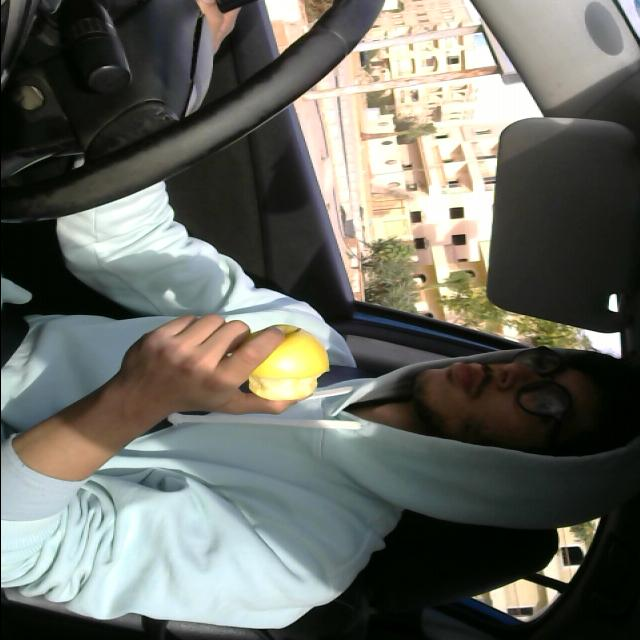eating: (235, 324, 335, 408)
